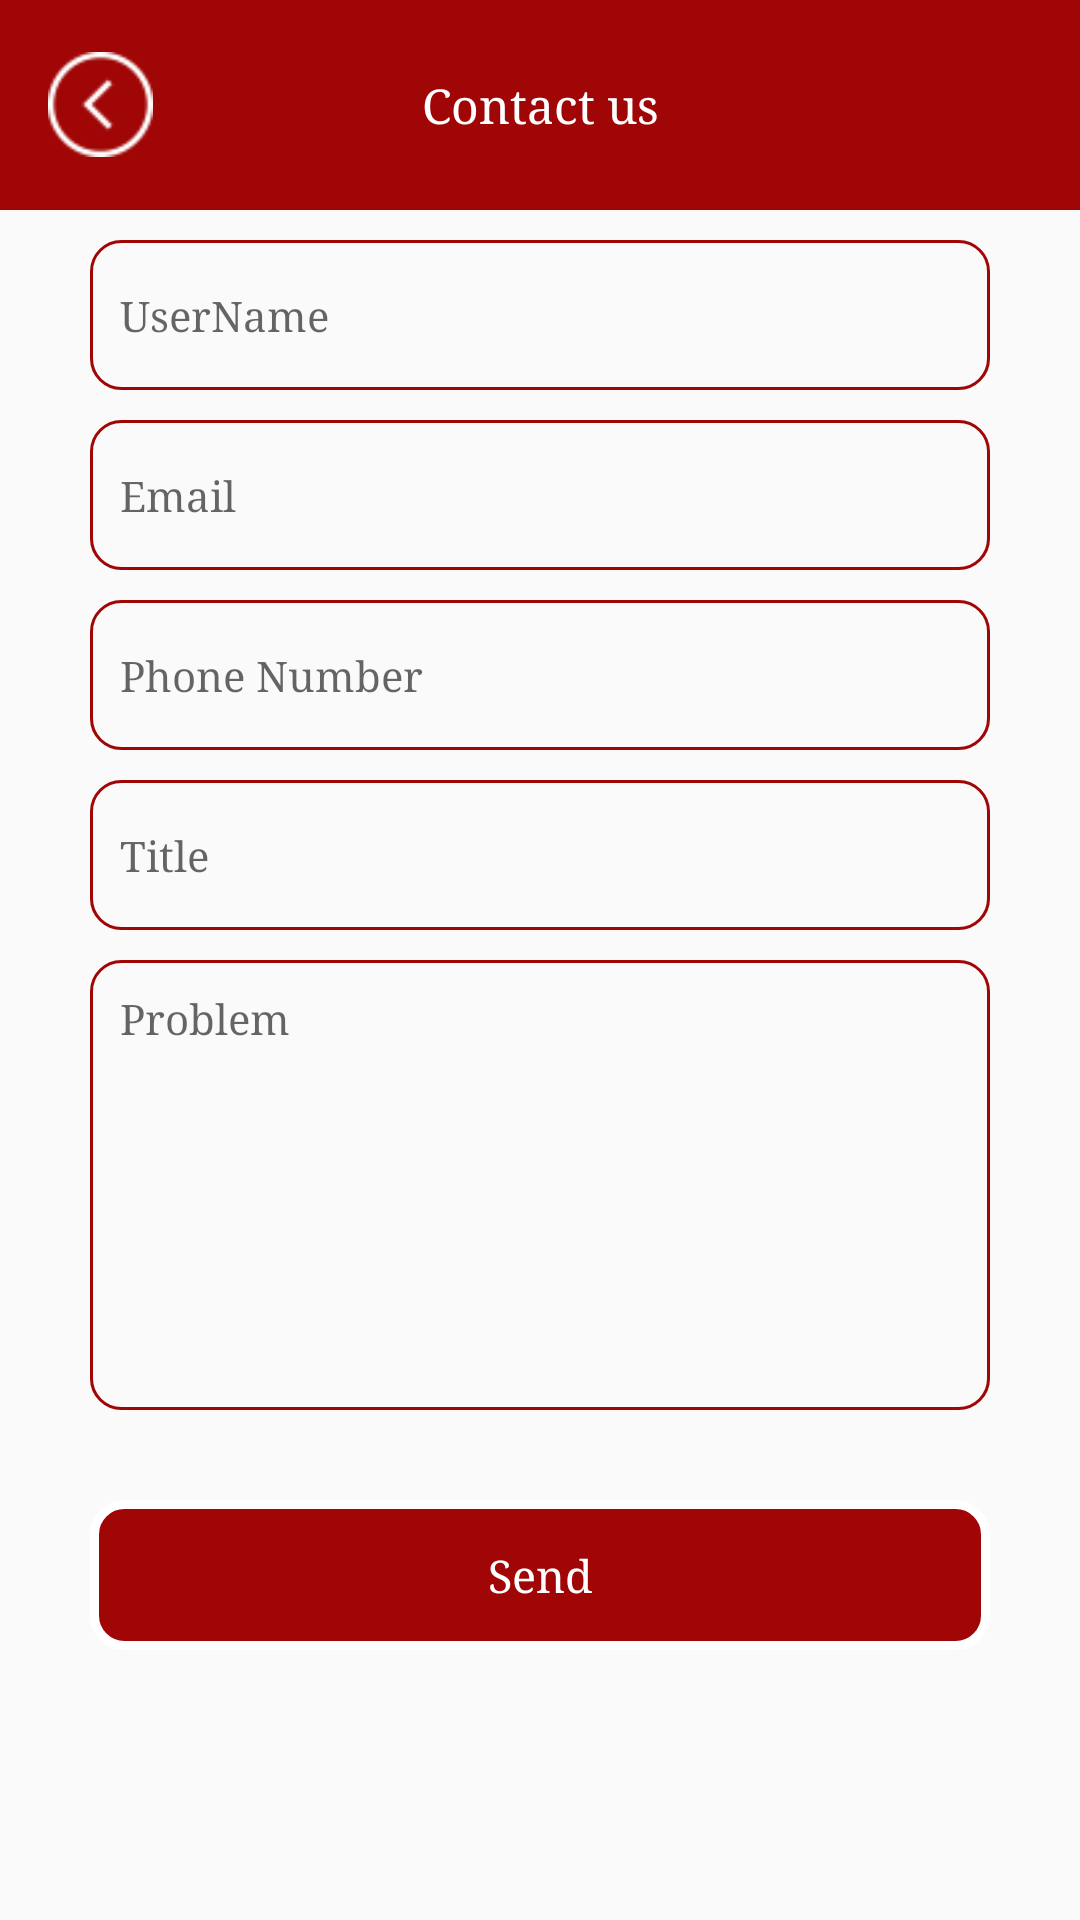

Icons on this 1080 x 1920 Android screen, each with its box as (x1, y1, x2, y2):
arrwo: (48, 52, 153, 157)
